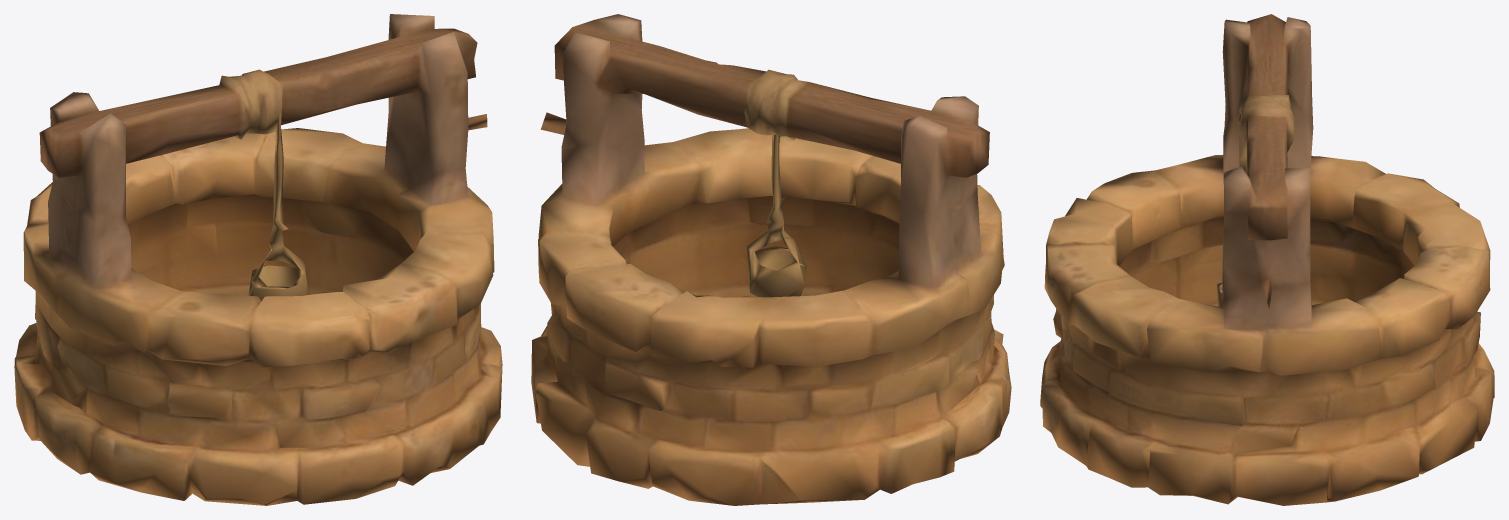
Rendered from well_syene.glb.
3 renders of one model, left to right at view 1: azimuth 30°, elevation 25°; view 2: azimuth 150°, elevation 25°; view 3: azimuth 270°, elevation 25°, orthographic. The views are drawn at different scales.
Parts seen in each view (by area): view 1: tripo_node_918e6c8e-5f7a-4c34-8187-5eed427dd3c8; view 2: tripo_node_918e6c8e-5f7a-4c34-8187-5eed427dd3c8; view 3: tripo_node_918e6c8e-5f7a-4c34-8187-5eed427dd3c8.
Part boxes in pixels (bbox=[...]): tripo_node_918e6c8e-5f7a-4c34-8187-5eed427dd3c8: bbox=[14, 14, 502, 505]; tripo_node_918e6c8e-5f7a-4c34-8187-5eed427dd3c8: bbox=[531, 14, 1011, 505]; tripo_node_918e6c8e-5f7a-4c34-8187-5eed427dd3c8: bbox=[1040, 14, 1494, 505].
Size of the model in its own units: 0.9801 by 0.7203 by 0.9431.
Materials: 1 (1 with a texture image).
